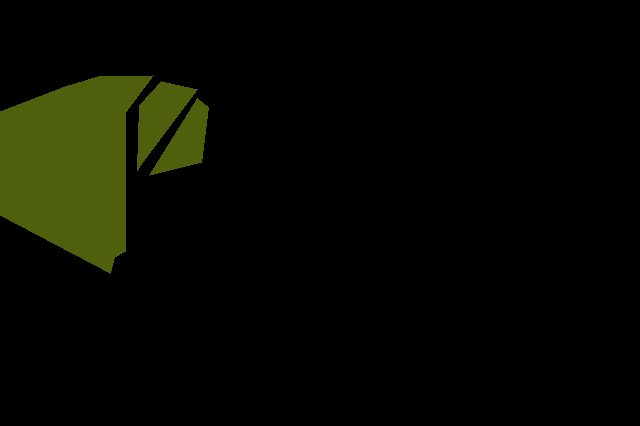Train: (0, 75, 208, 273)
